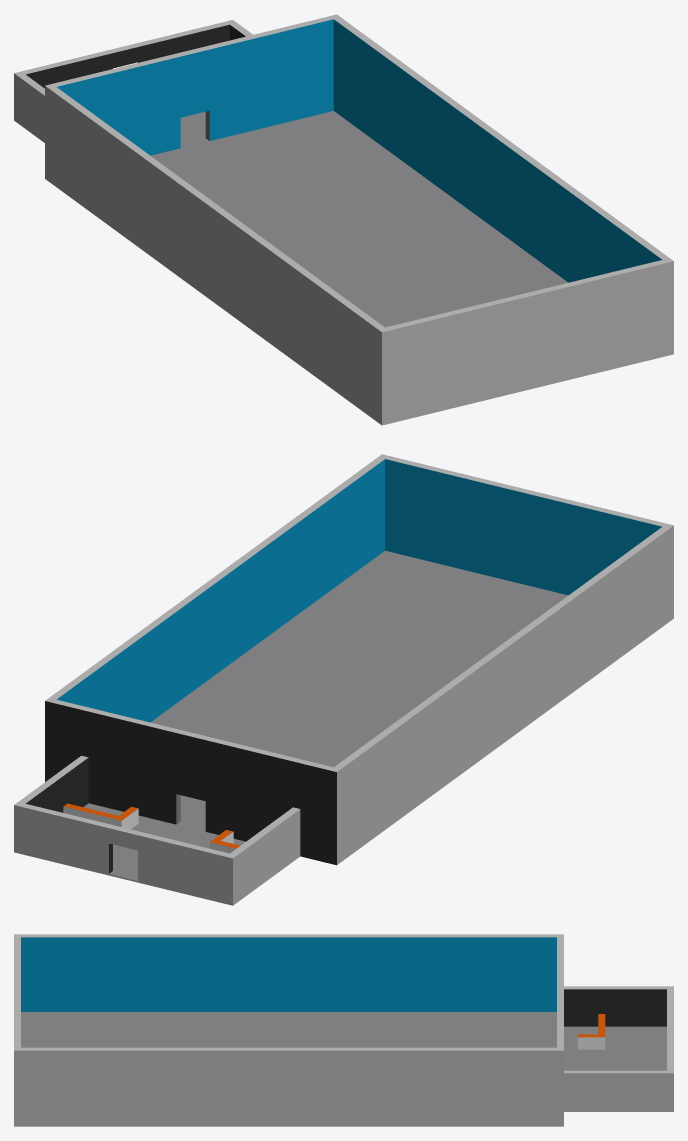
File: Paintball.FBX
The picture shows the model from 3 angles, top to bottom: view 1: azimuth 30°, elevation 25°; view 2: azimuth 150°, elevation 25°; view 3: azimuth 270°, elevation 25°; orthographic projection. The views are drawn at different scales.
Parts seen in each view (by area): view 1: Paintball Field; view 2: Paintball Field; view 3: Paintball Field.
Boxes of the visible parts, box(x1,y1,x2,y2) form: Paintball Field: box(14, 14, 673, 425); Paintball Field: box(14, 454, 673, 905); Paintball Field: box(14, 934, 673, 1126).
Size of the model in its own units: 1000 by 305 by 2400.
